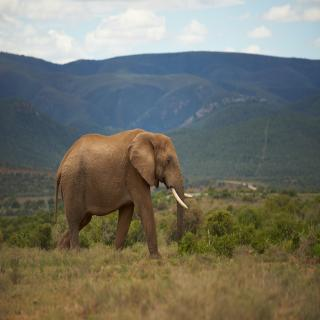Elephant: (52, 126, 196, 263)
